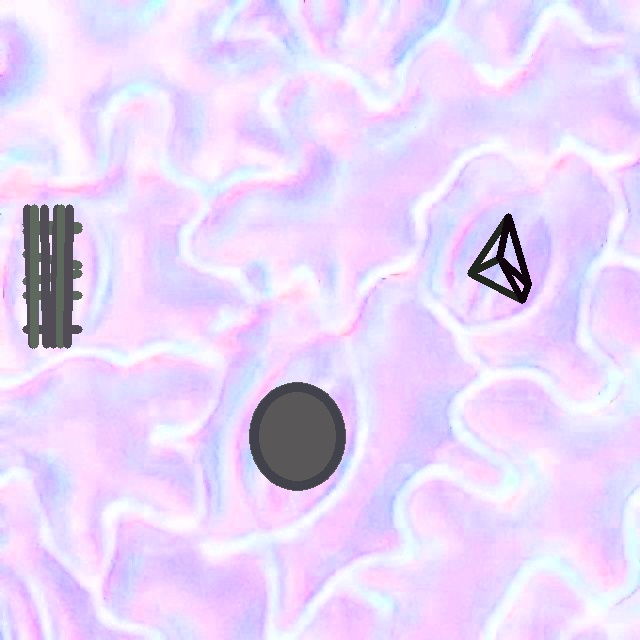open: (249, 381, 344, 490), (22, 204, 82, 348), (468, 213, 530, 303)
